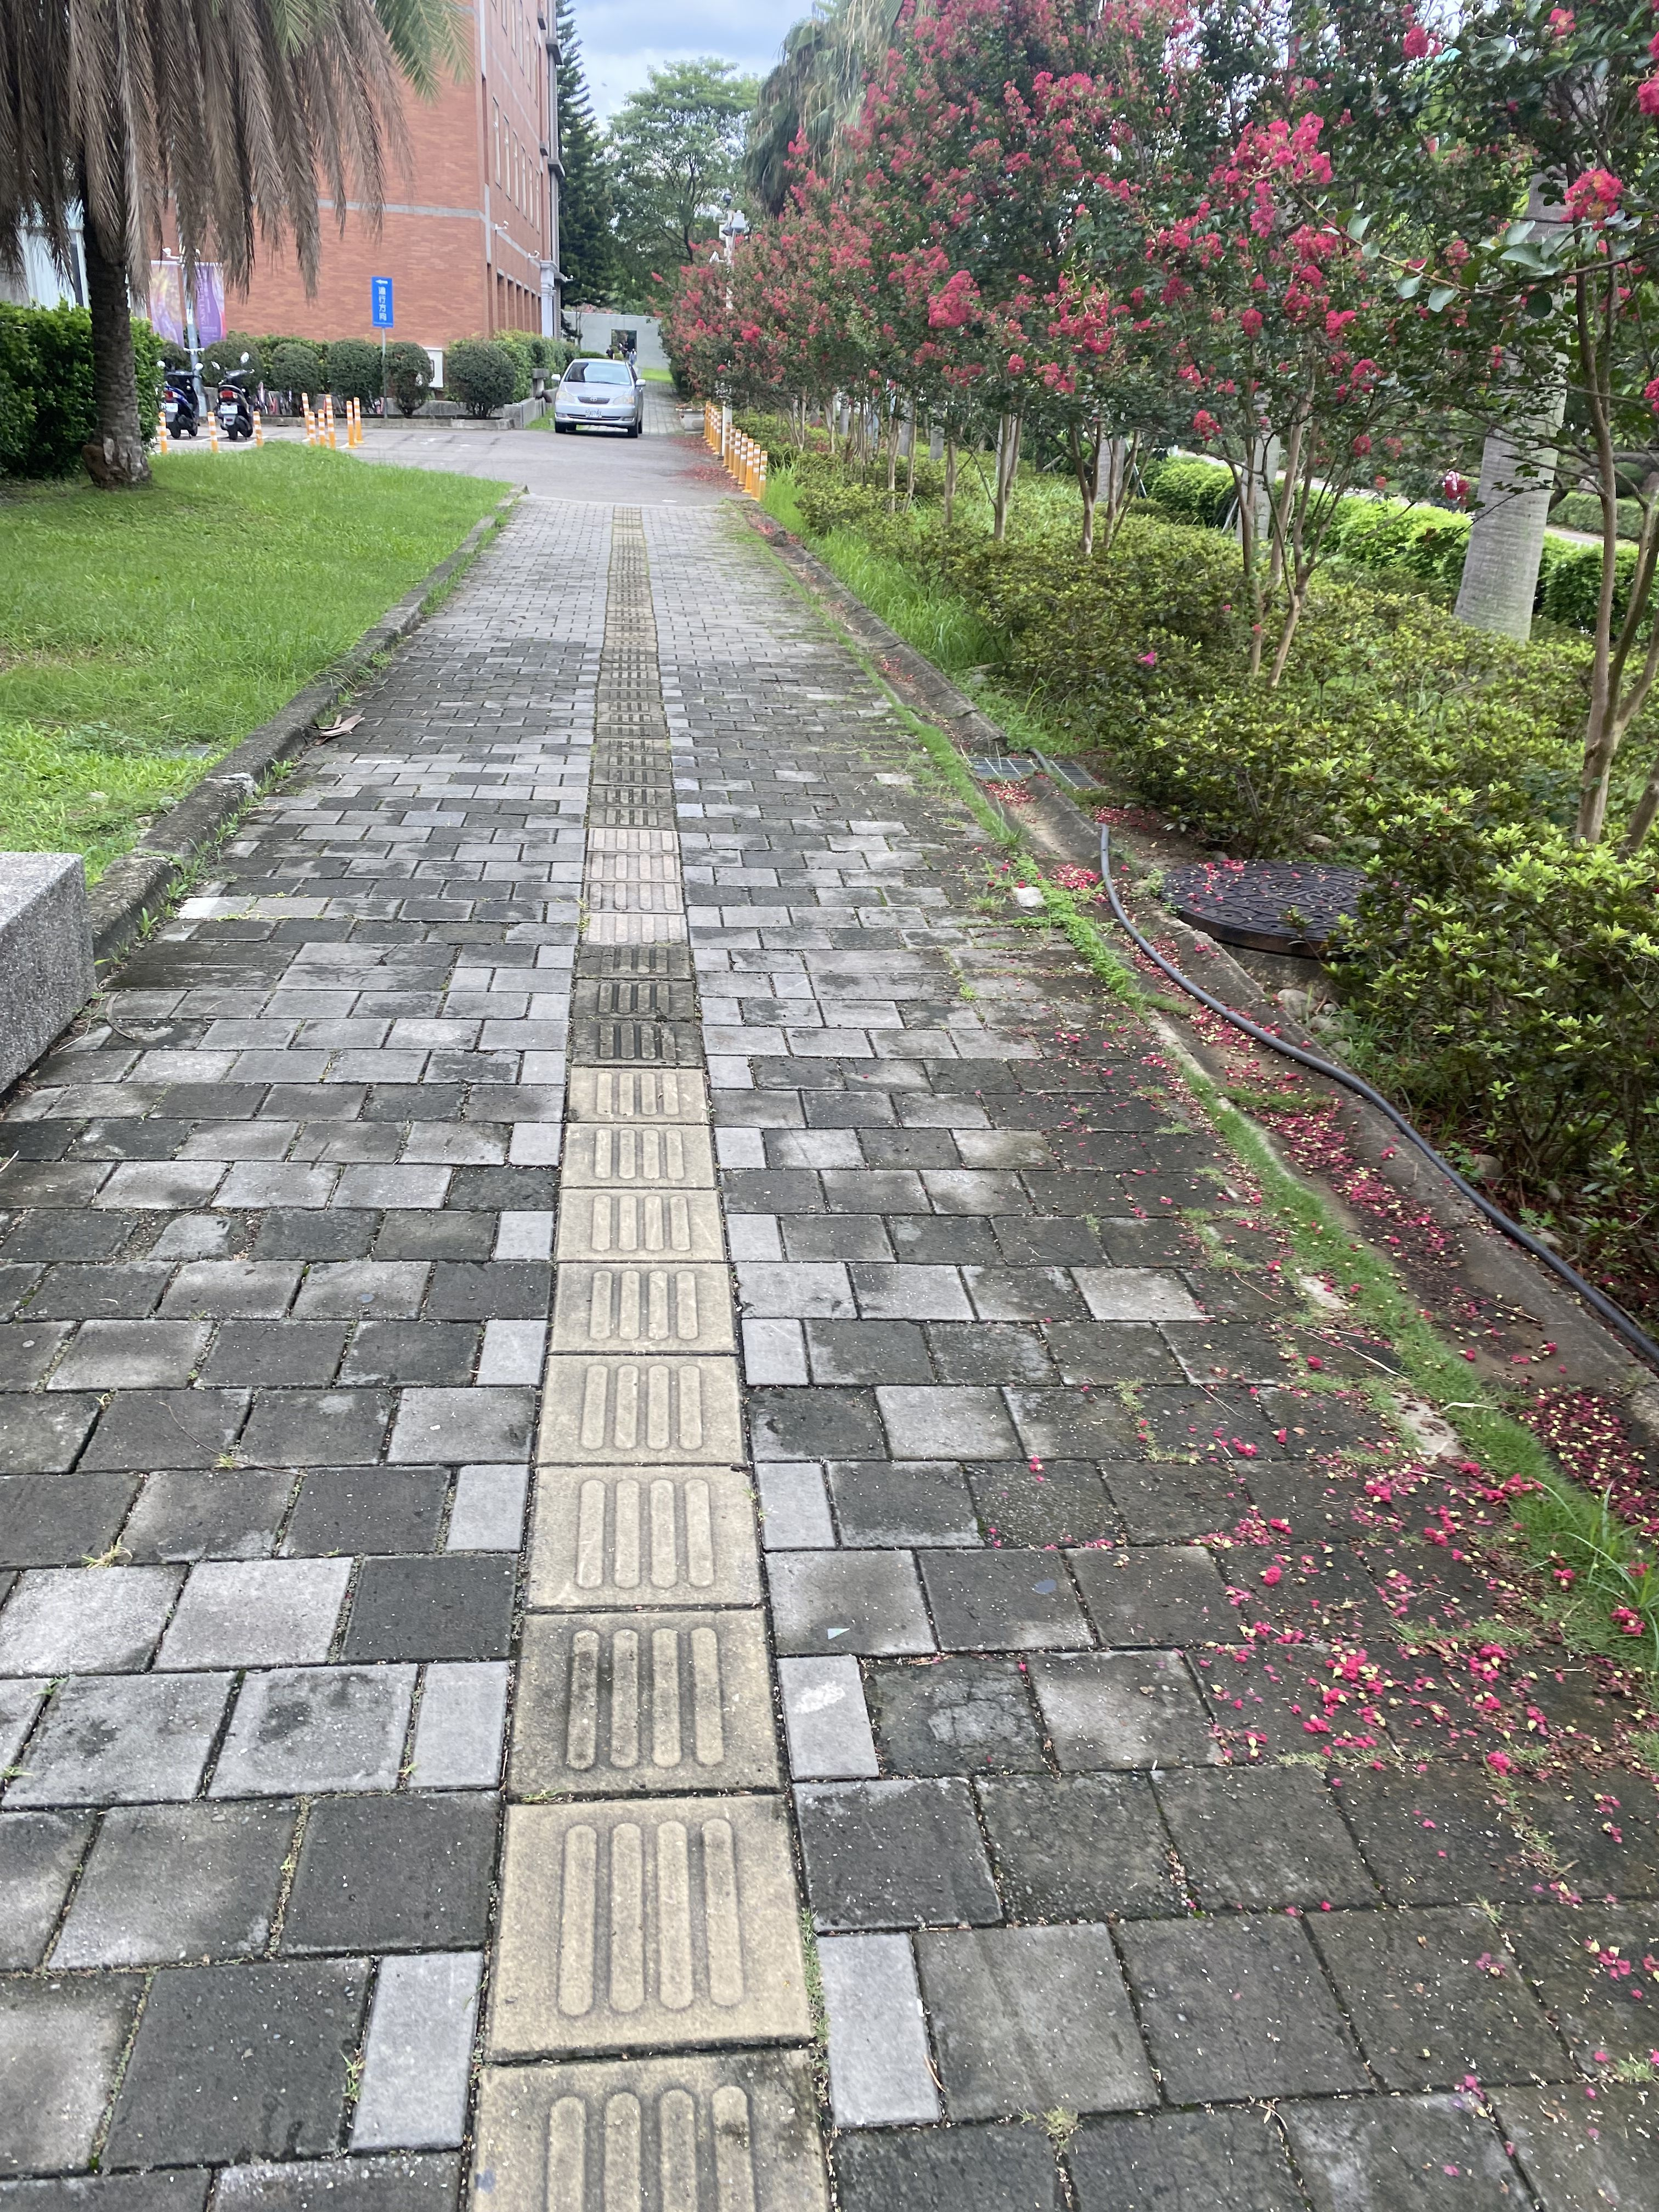0: (0, 686, 1659, 2212)
sidewalk: (342, 475, 1114, 1402)
